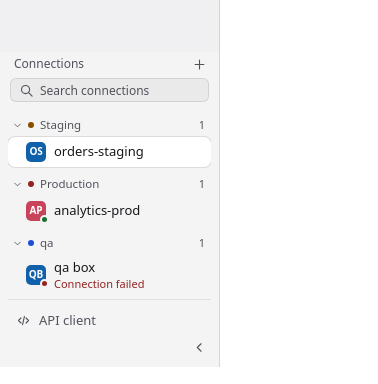
Test: opens the connection menu at the pointer on right-click
Right-click the button with aria-label "Switch to analytics-prod" at coordinates (118, 211), box [26,197,211,225]
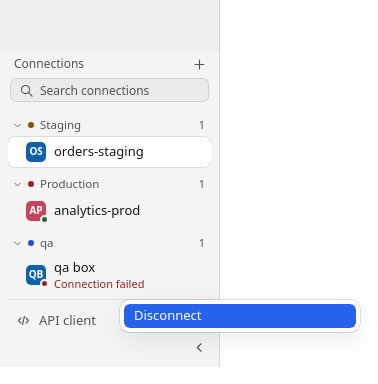
Click the menu item "Disconnect" at coordinates (240, 316), box [124,304,356,328]
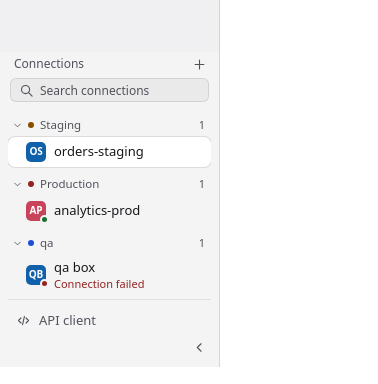
Now the menu is gone
